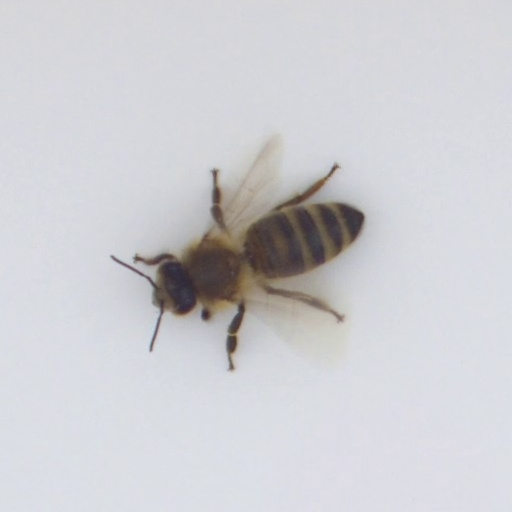Bee: (131, 173, 385, 331)
Thorax: (182, 238, 241, 304)
